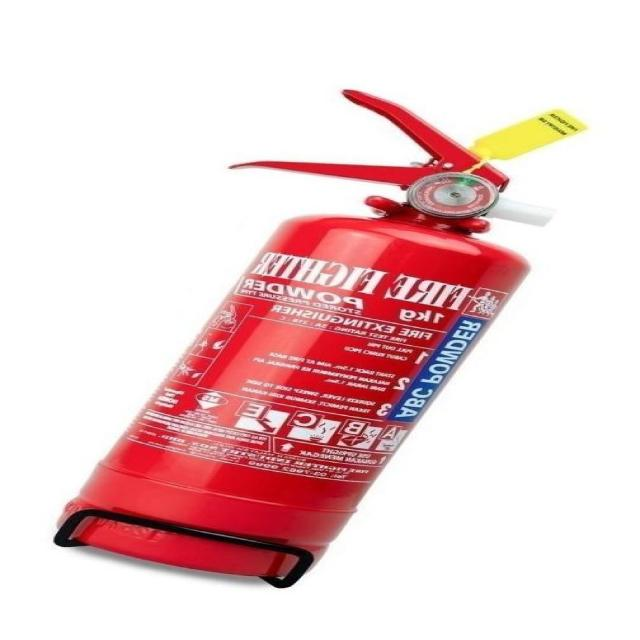fire_extinguisher: (48, 86, 592, 585)
